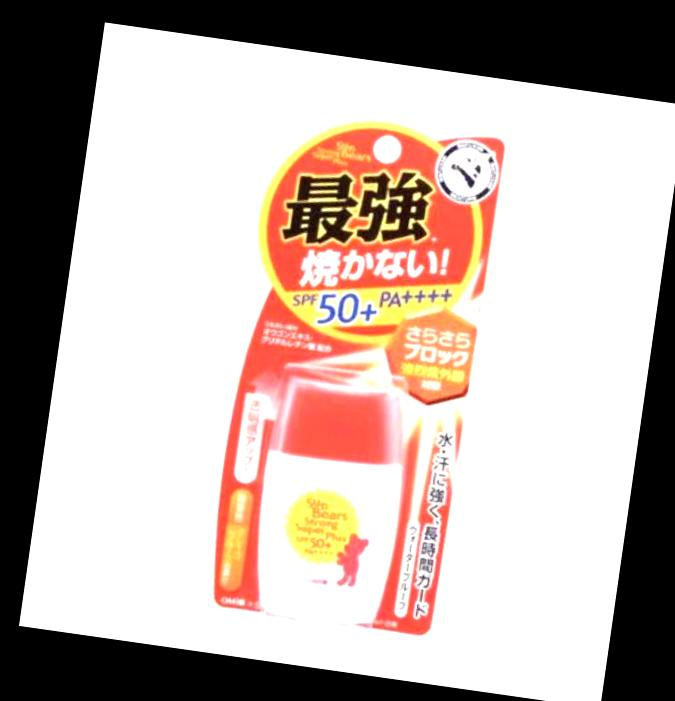cosmetic: (245, 374, 416, 638)
